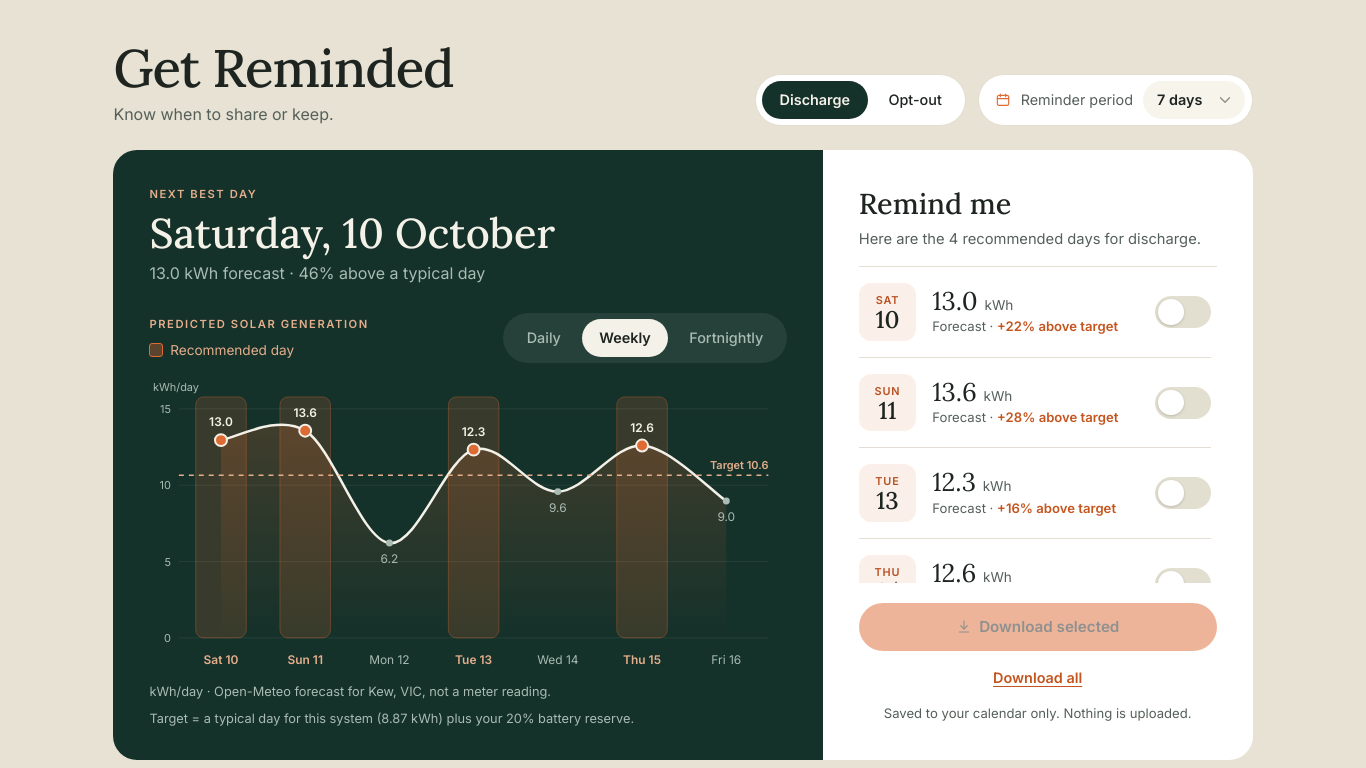
Get Reminded page › switches to opt-out days below the target
Expected: the heading "Remind me" is shown, [859,185,1011,222]
Click the radio button labelled "Opt-out" at (915,100), box [871,81,960,119]
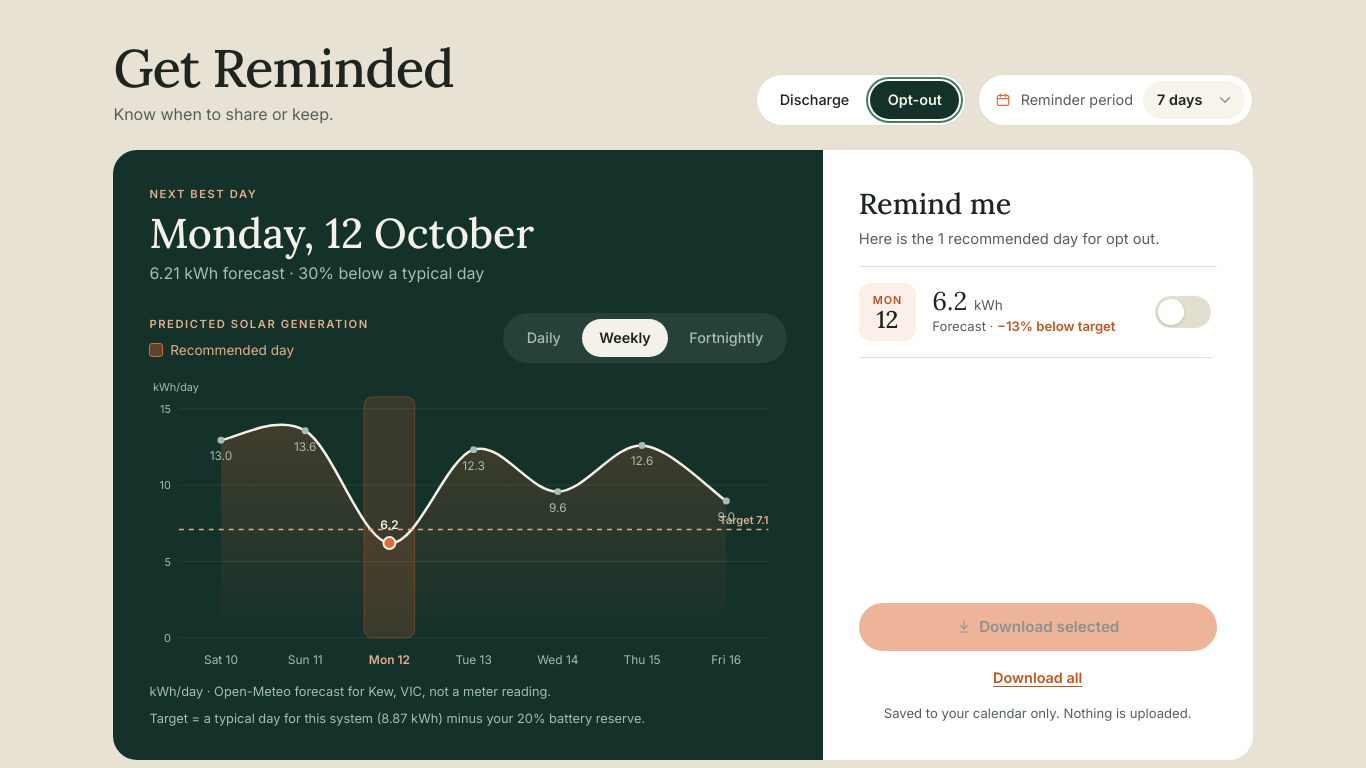
Now the number of list items is 1, box [859,267,1211,358]
Now the text "Here is the 1 recommended day for opt out." is shown, box [859,228,1217,267]
Now the list item reads "MON 12 6.2 kWh Forecast · −13% below target", box [859,267,1211,358]
